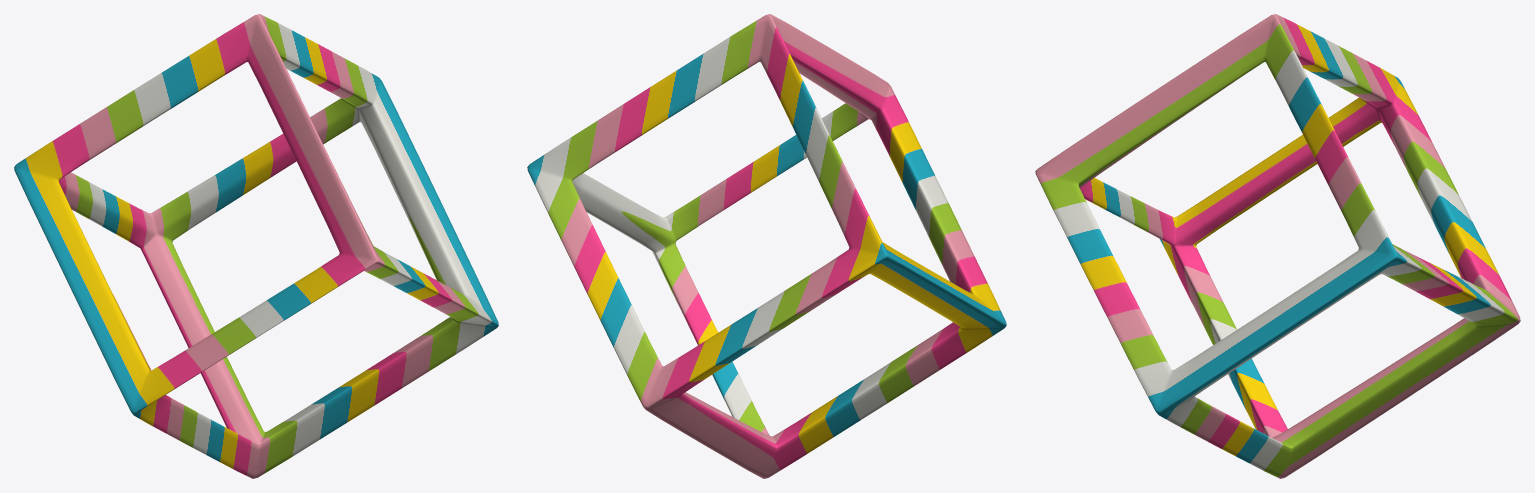
Rendered from A-2_Onstick.fbx.
3 renders of one model, left to right at view 1: azimuth 30°, elevation 25°; view 2: azimuth 150°, elevation 25°; view 3: azimuth 270°, elevation 25°, orthographic.
Parts seen in each view (by area): view 1: A-2; view 2: A-2; view 3: A-2.
Boxes of the visible parts, x1,y1,x2,y2 form: A-2: (14,14,498,478); A-2: (527,14,1006,478); A-2: (1035,14,1520,478).
Size of the model in its own units: 0.8534 by 1.03 by 0.9797.
Materials: 1 (1 with a texture image).
